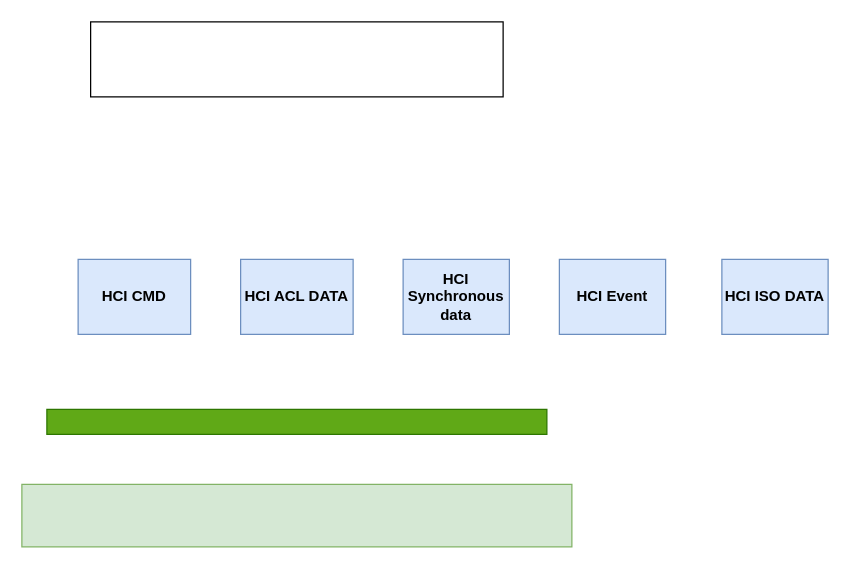
Image size: 850x569. Some labels were removed from this diagram. The shapes that lost their labels are listed below. From the top down, each one's box as (x1, y1, x2, y2) in pixels, then its label:
(46, 408, 547, 434): Message
(21, 483, 572, 547): APP
